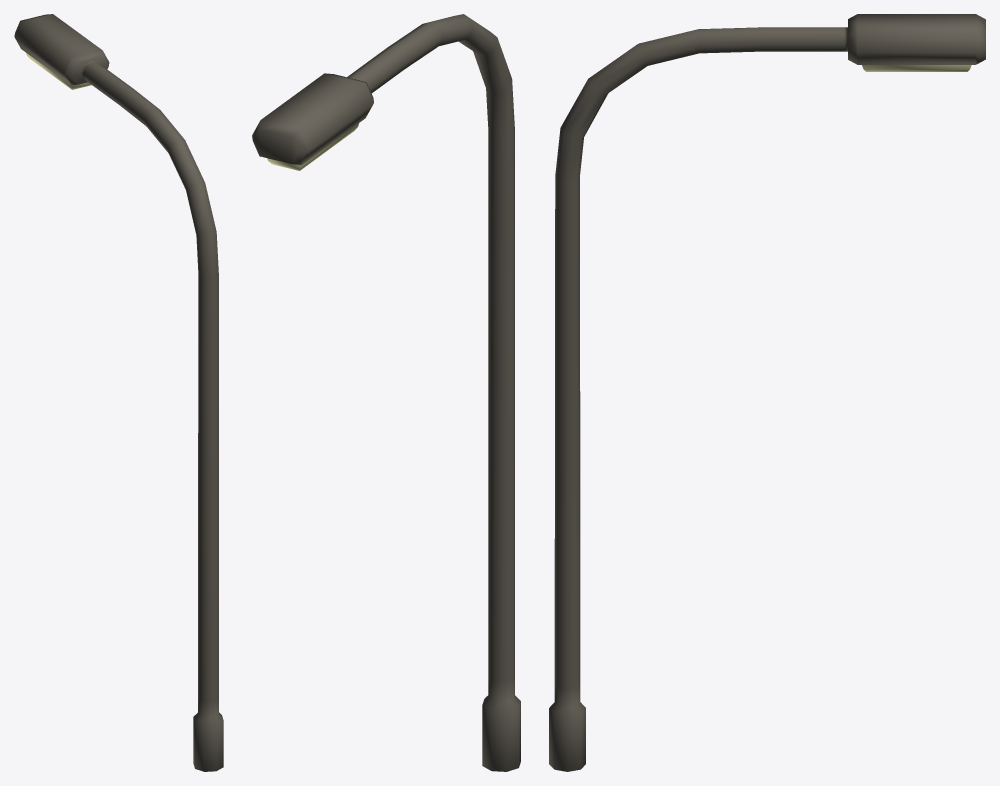
The model's file is Lmp1.fbx.
3 renders of one model, left to right at view 1: azimuth 30°, elevation 25°; view 2: azimuth 150°, elevation 25°; view 3: azimuth 270°, elevation 25°, orthographic. The views are drawn at different scales.
Parts seen in each view (by area): view 1: Circle.014; view 2: Circle.014; view 3: Circle.014.
Part boxes in pixels (x1=…): Circle.014: x1=14, y1=14, x2=223, y2=771; Circle.014: x1=252, y1=14, x2=520, y2=771; Circle.014: x1=549, y1=14, x2=985, y2=771.
Bounding box in the file's own units: 11.77 × 154 × 82.58.
